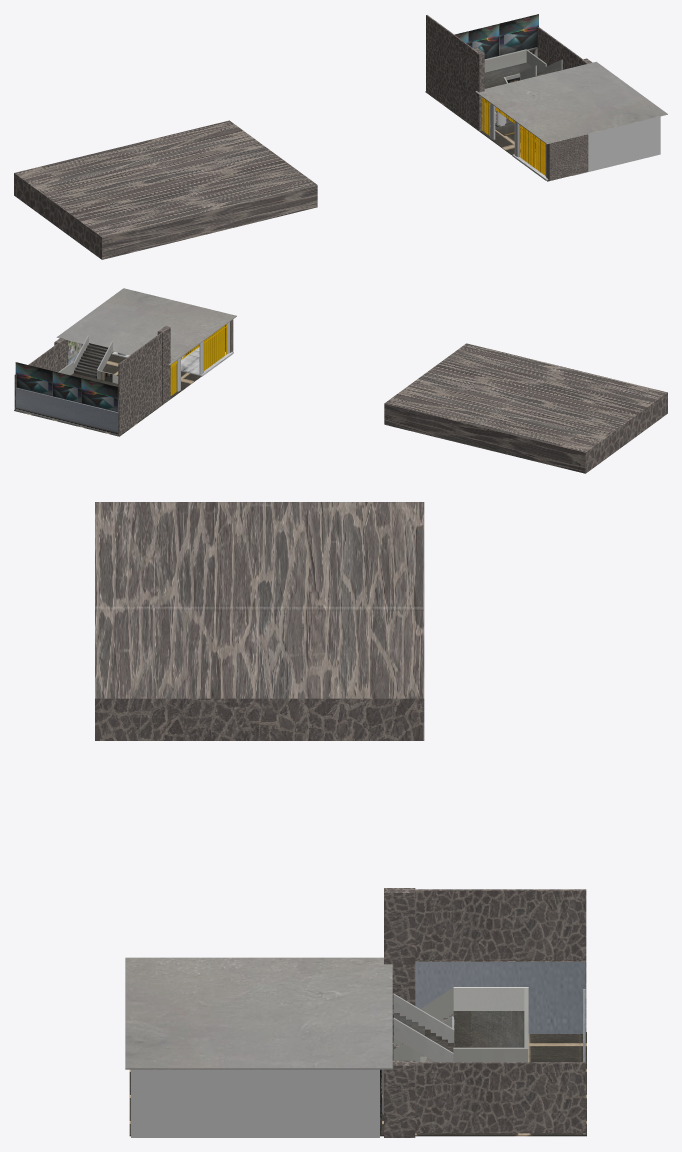
File: Facultad.obj
3 views of the same model, one above another, from view 1: azimuth 30°, elevation 25°; view 2: azimuth 150°, elevation 25°; view 3: azimuth 270°, elevation 25° (orthographic). The views are drawn at different scales.
Parts seen in each view (by area): view 1: FI_A, Techo, Puertascristal, ParedAfuera.001, ParedAfuera, Pared_plancha, Puertaaudider, Puerta, ParedAfuera.002, Escaleras.002, Mural, Trabe11 (+2 smaller); view 2: FI_A, Techo, ParedAuditorio, ParedAfuera.001, ParedAfuera, Puerta, puertaaudider, Puertaaudider, ParedAfuera.002, PisoBase, Mural, Escaleras.009 (+2 smaller); view 3: FI_A, Techo, ParedTren, ParedAfuera.001, ParedAfuera.002, Paredizqaudi, PisoBase, Escaleras.001, Escaleras.003, Escaleras.002, Escaleras.007, ParedAfuera (+1 smaller).
Boxes of the visible parts, bbox=[...] form: FI_A: bbox=[14, 120, 317, 259]; Techo: bbox=[475, 61, 667, 144]; Puertascristal: bbox=[572, 116, 660, 175]; ParedAfuera.001: bbox=[426, 15, 484, 92]; ParedAfuera: bbox=[426, 53, 484, 131]; Pared_plancha: bbox=[546, 134, 588, 180]; Puertaaudider: bbox=[499, 14, 538, 56]; Puerta: bbox=[482, 97, 551, 175]; ParedAfuera.002: bbox=[537, 27, 592, 69]; Escaleras.002: bbox=[484, 49, 546, 72]; Mural: bbox=[468, 24, 498, 59]; Trabe11: bbox=[490, 103, 546, 176]; FI_A: bbox=[384, 343, 667, 473]; Techo: bbox=[56, 288, 236, 365]; ParedAuditorio: bbox=[16, 387, 118, 435]; ParedAfuera.001: bbox=[118, 326, 170, 399]; ParedAfuera: bbox=[118, 364, 170, 435]; Puerta: bbox=[170, 324, 227, 395]; puertaaudider: bbox=[81, 378, 118, 412]; Puertaaudider: bbox=[15, 362, 52, 396]; ParedAfuera.002: bbox=[14, 338, 67, 410]; PisoBase: bbox=[14, 351, 233, 436]; Mural: bbox=[53, 371, 81, 403]; Escaleras.009: bbox=[74, 343, 107, 378]; FI_A: bbox=[95, 502, 424, 740]; Techo: bbox=[125, 957, 392, 1069]; ParedTren: bbox=[131, 1069, 379, 1137]; ParedAfuera.001: bbox=[384, 888, 586, 964]; ParedAfuera.002: bbox=[384, 1060, 586, 1137]; Paredizqaudi: bbox=[415, 962, 585, 1033]; PisoBase: bbox=[129, 1032, 586, 1136]; Escaleras.001: bbox=[453, 1011, 524, 1047]; Escaleras.003: bbox=[453, 987, 528, 1049]; Escaleras.002: bbox=[453, 988, 528, 1062]; Escaleras.007: bbox=[393, 1018, 453, 1062]; ParedAfuera: bbox=[392, 962, 586, 1036].
Bounding box in the file's own units: 4232 × 551 × 1680.
